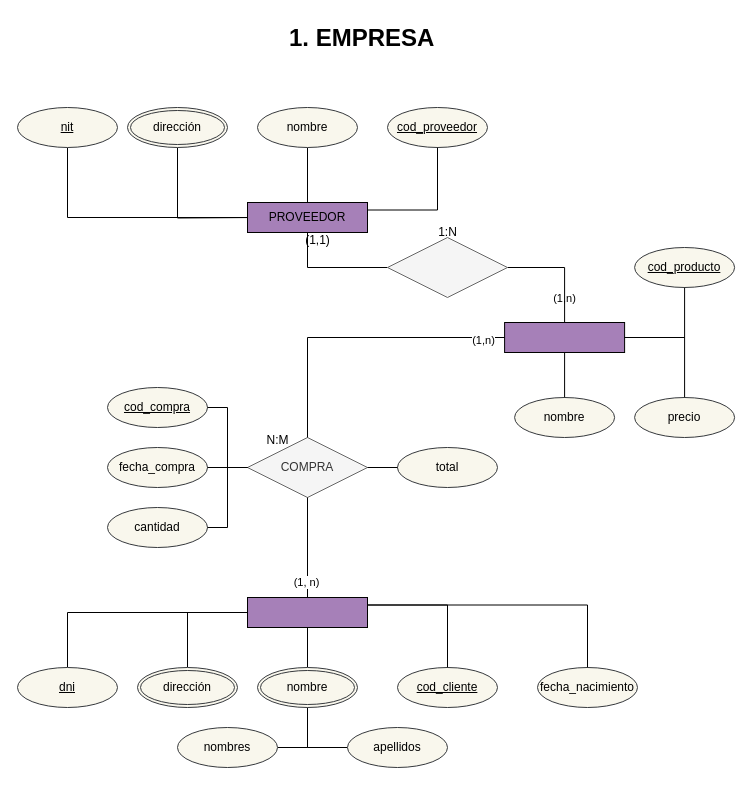
Some shapes in this 753 by 785 pixel diagram are drawn without their labels. The shapes that lost their labels are listed below. From the top down, each one's centre as x and y in pixels, then its label:
At (447,267): "suministra".
At (564,337): "PRODUCTO".
At (307,612): "CLIENTE".
